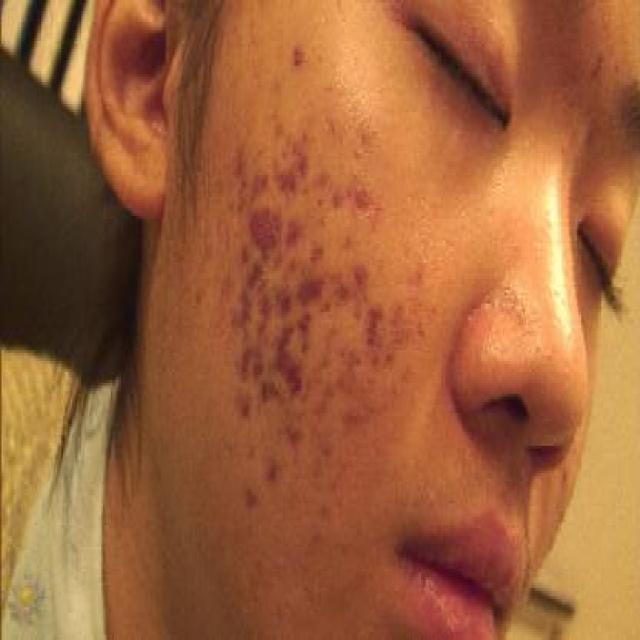dark spot: (270, 120, 318, 197), (242, 188, 290, 262), (266, 323, 312, 394), (343, 170, 380, 227), (291, 266, 331, 314)
papules: (292, 36, 305, 71)
